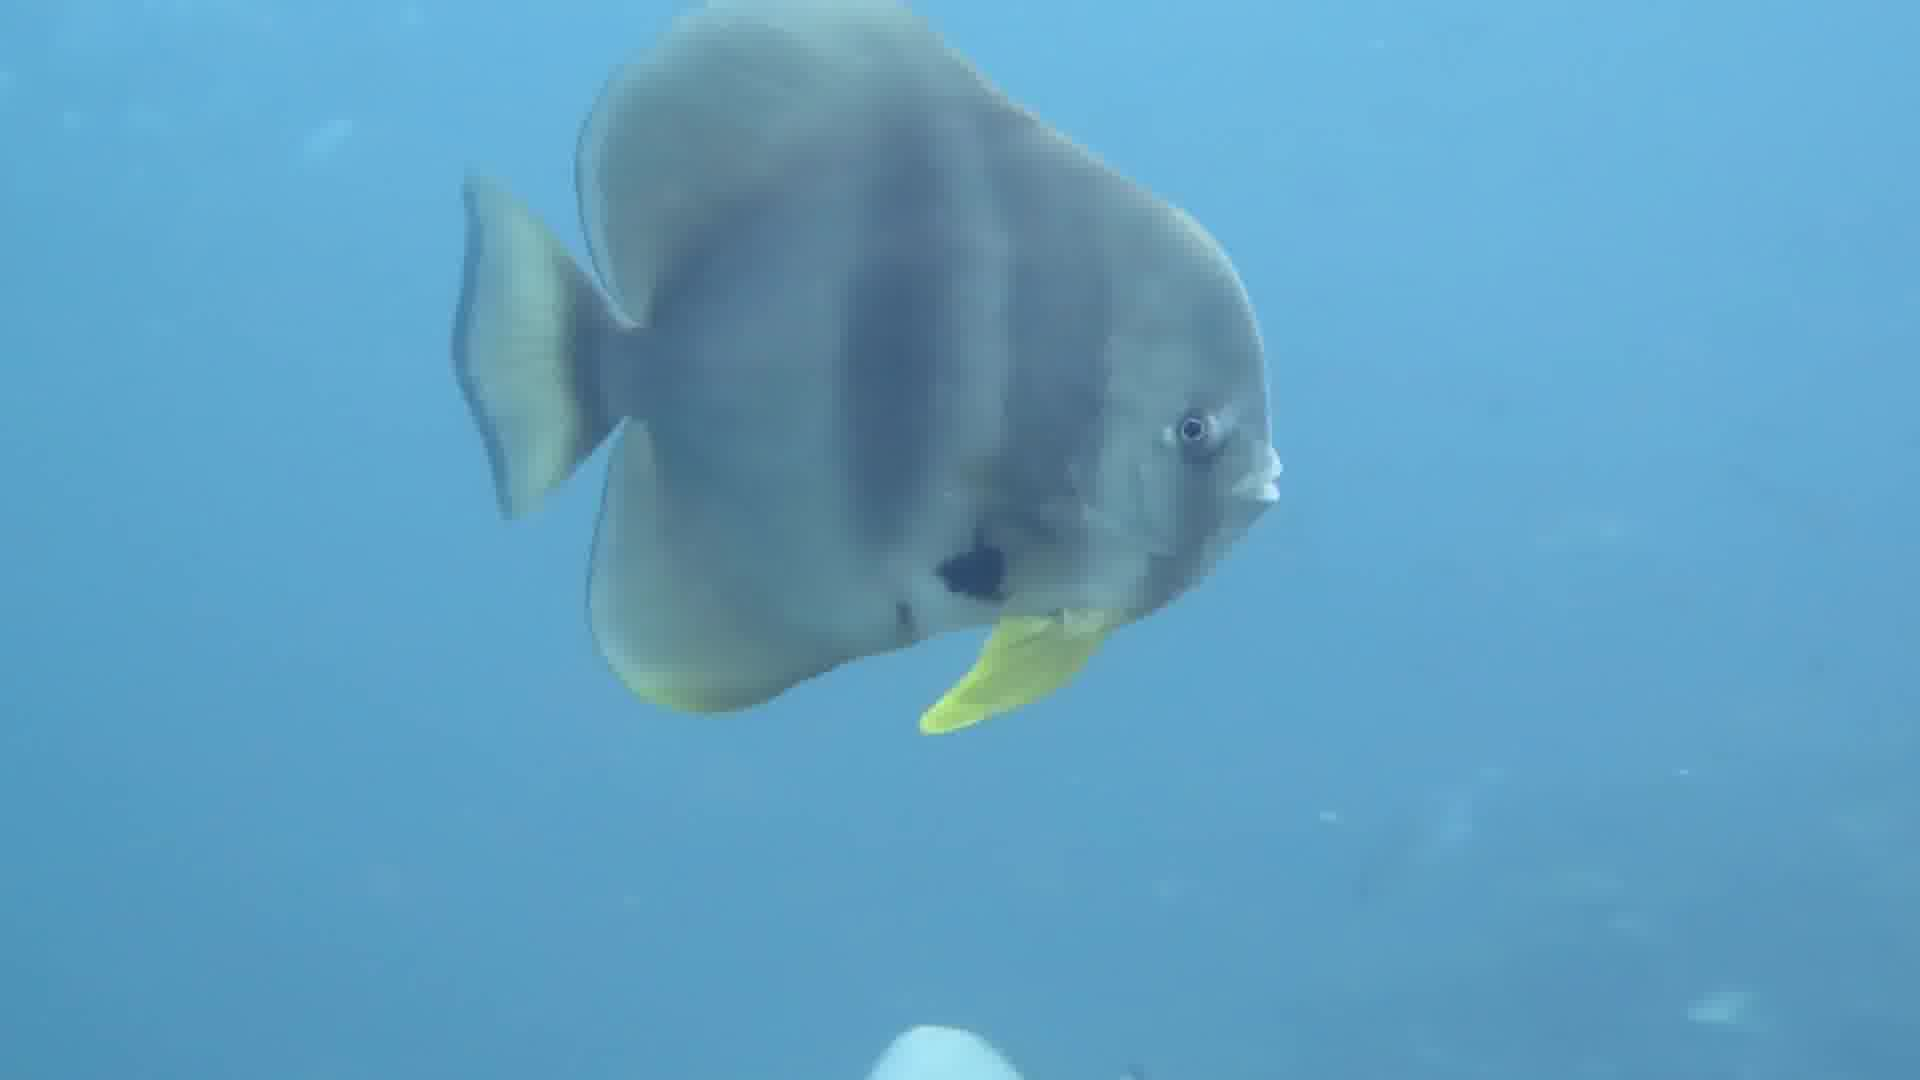Platax teira: (439, 1, 1309, 889)
